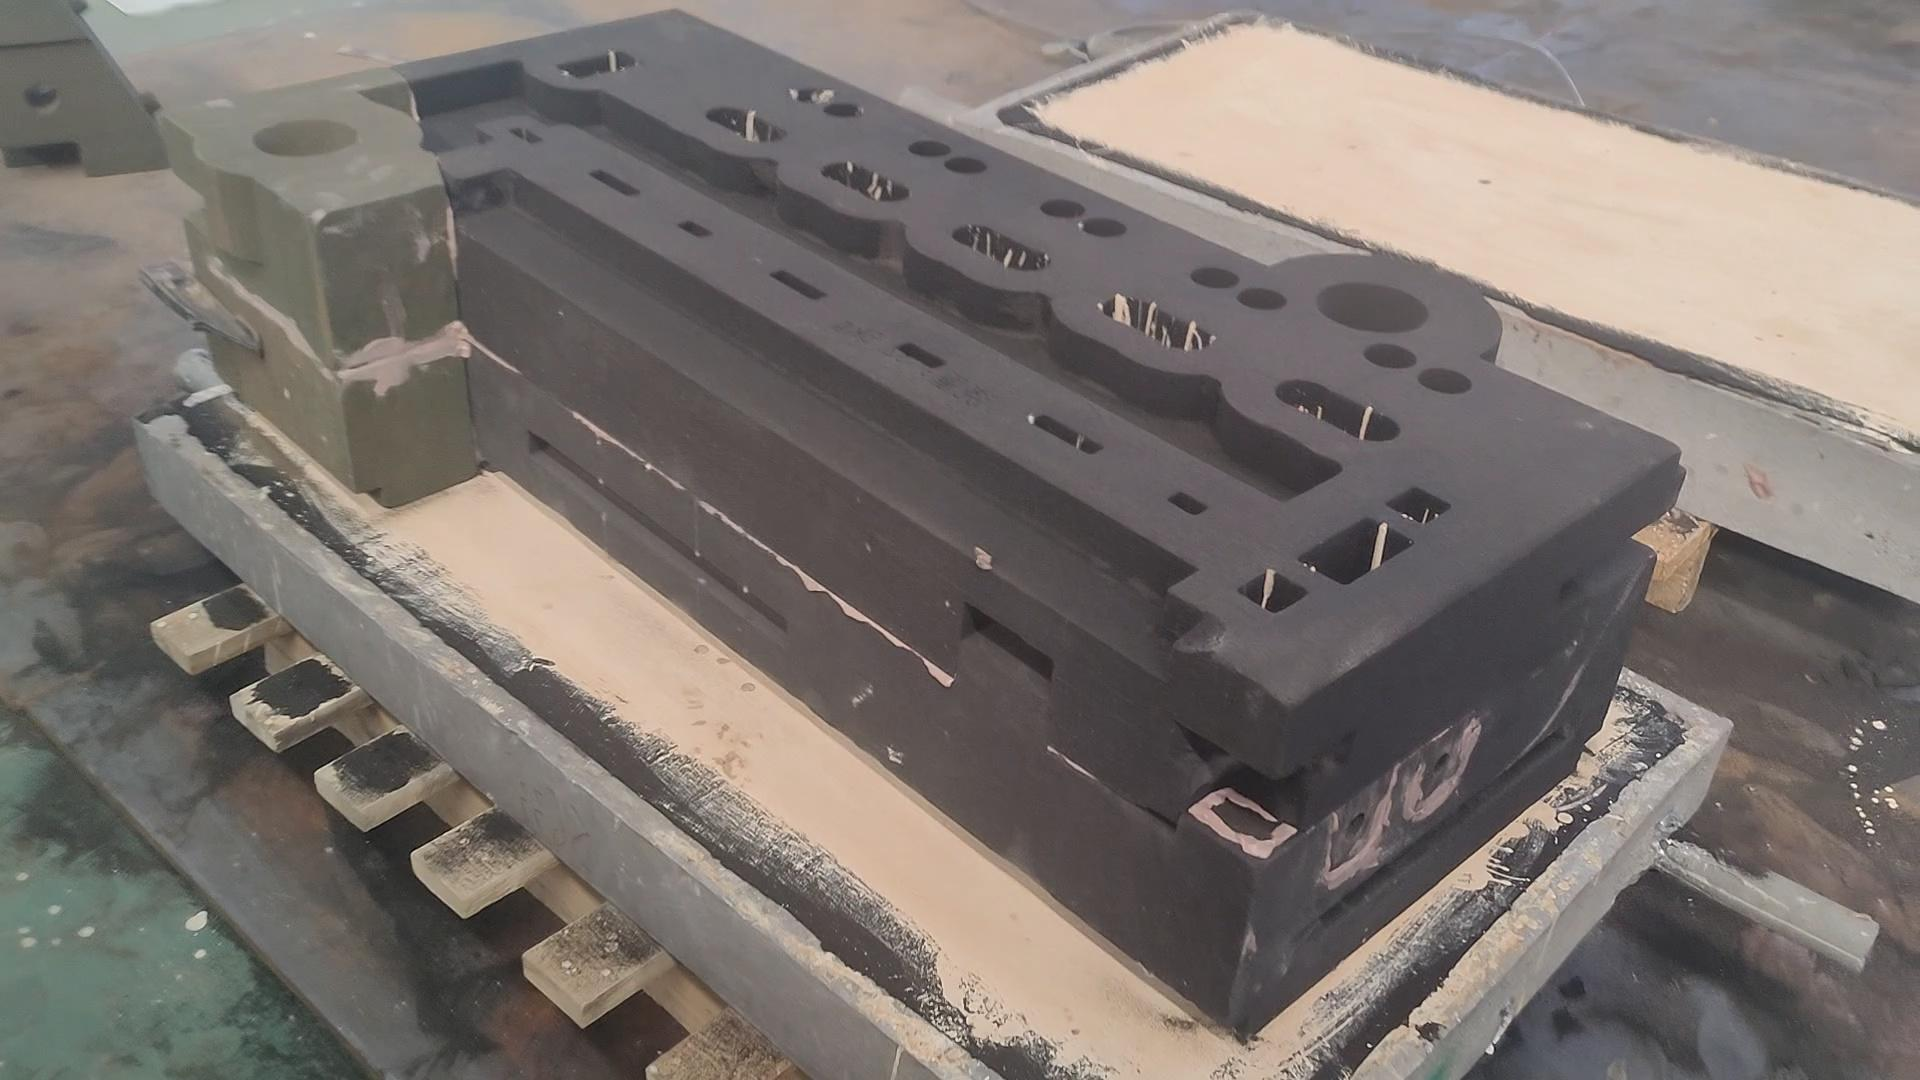pouring hole: (1317, 281, 1429, 334), (253, 117, 357, 156)
